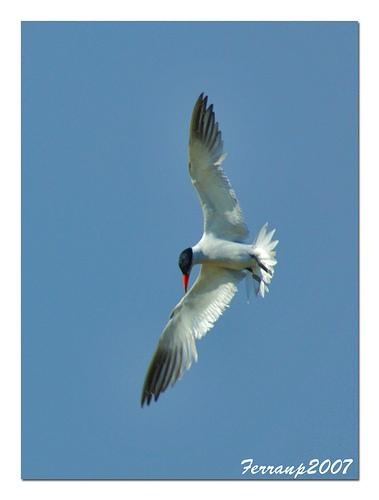bird: (136, 90, 278, 412)
